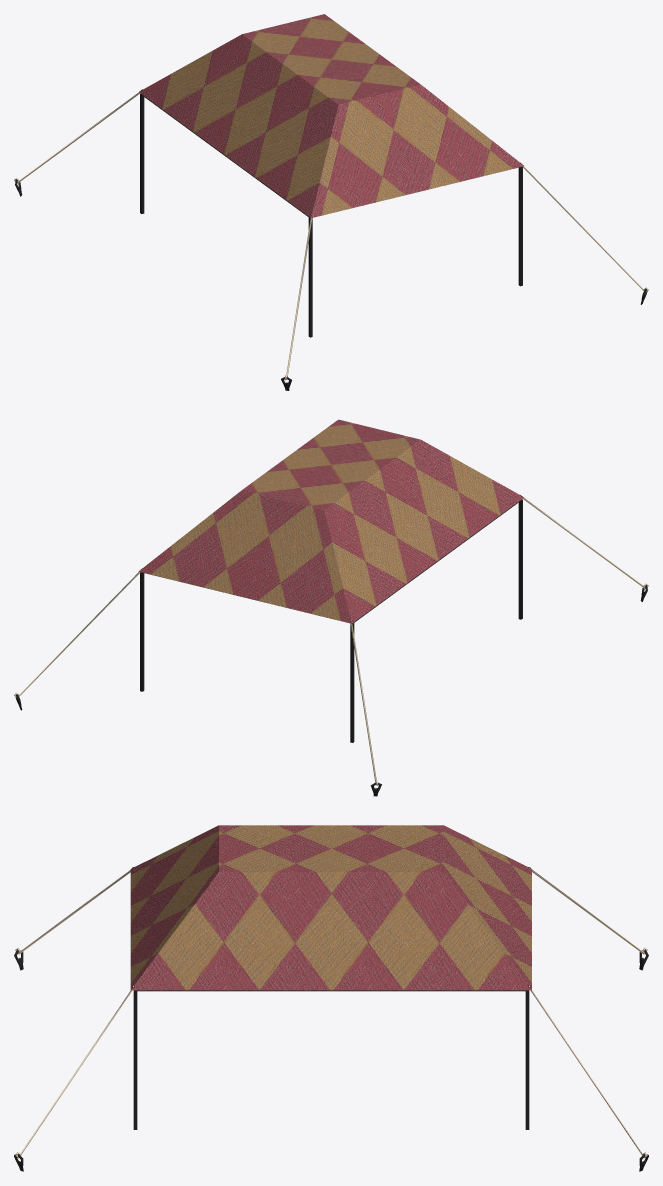
File: G_TentOpen.fbx
3 views of the same model, one above another, from view 1: azimuth 30°, elevation 25°; view 2: azimuth 150°, elevation 25°; view 3: azimuth 270°, elevation 25° (orthographic). The views are drawn at different scales.
Parts seen in each view (by area): view 1: Tarp, Vigas, Stakes; view 2: Tarp, Vigas, Stakes; view 3: Tarp, Vigas, Stakes.
Part boxes in pixels (x1,y1,x2,y2): Tarp: (139, 14, 523, 217); Vigas: (140, 93, 522, 337); Stakes: (14, 89, 648, 390); Tarp: (138, 419, 523, 623); Vigas: (140, 499, 522, 742); Stakes: (14, 495, 648, 796); Tarp: (130, 825, 531, 990); Vigas: (133, 990, 529, 1129); Stakes: (14, 867, 648, 1171).
Size of the model in its own units: 577 by 287 by 744.
